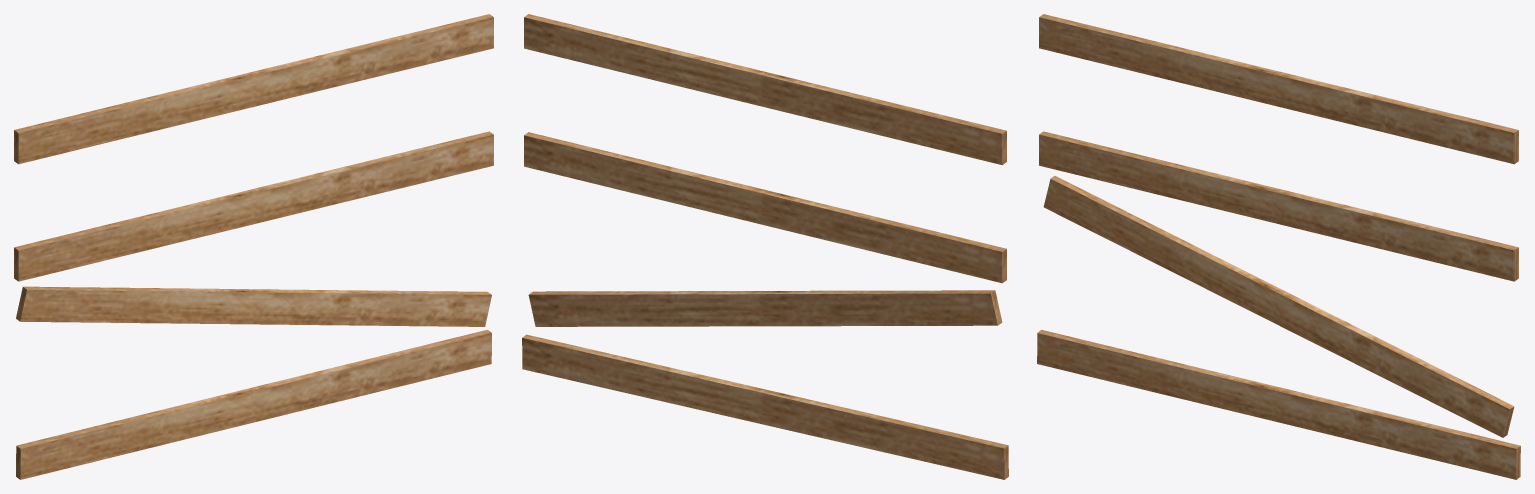
File: des_fence_B.fbx
The picture shows the model from 3 angles, left to right: view 1: azimuth 30°, elevation 25°; view 2: azimuth 150°, elevation 25°; view 3: azimuth 330°, elevation 25°; orthographic projection.
Parts seen in each view (by area): view 1: fence; view 2: fence; view 3: fence.
Part boxes in pixels (box(x1,y1,x2,y2)): fence: box(14, 14, 493, 479); fence: box(522, 14, 1008, 479); fence: box(1037, 14, 1520, 479).
Size of the model in its own units: 141 by 98.83 by 4.38.
Materials: 1 (1 with a texture image).
